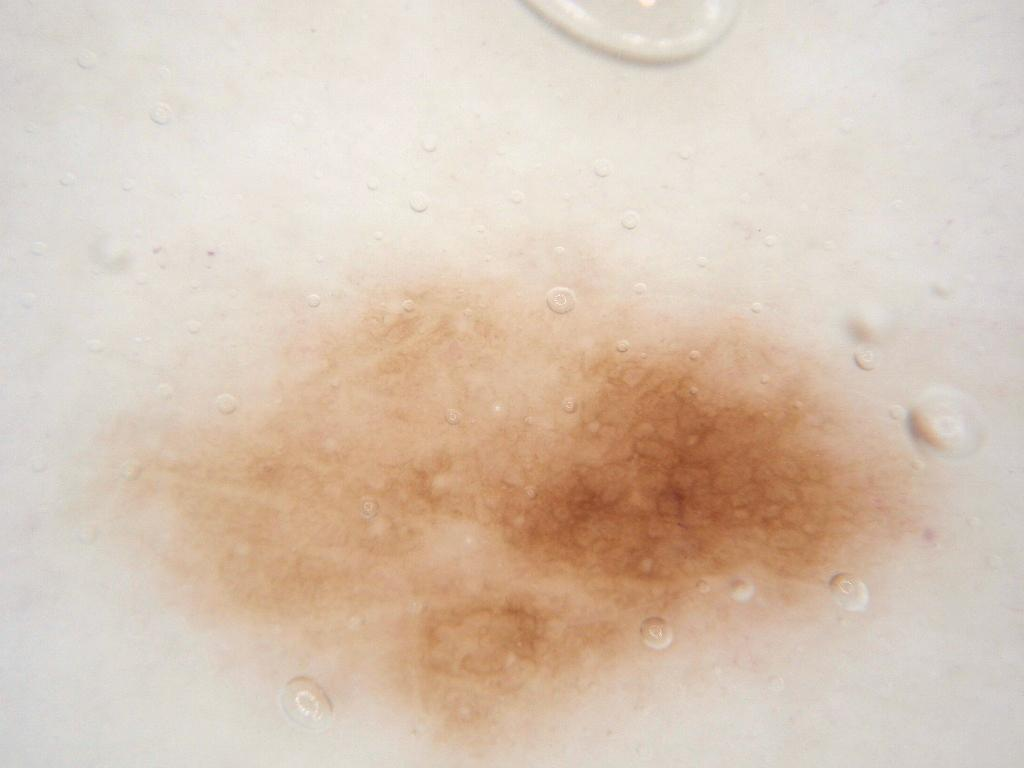Detected Lesion: (128, 276, 924, 753)
